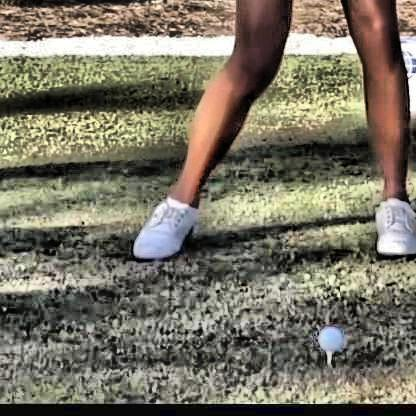golfball: (315, 324, 341, 349)
